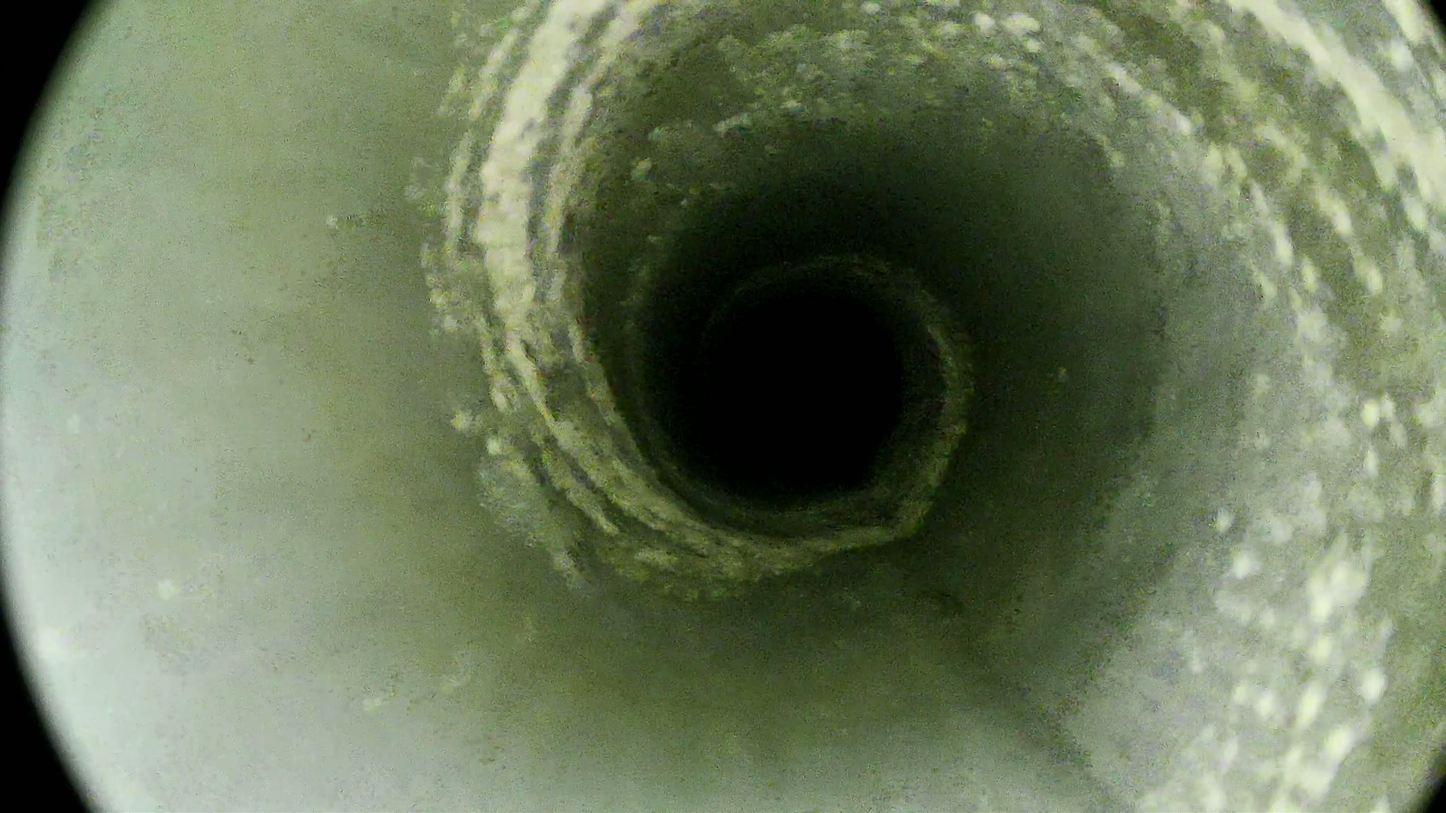hole: (715, 296, 902, 485)
